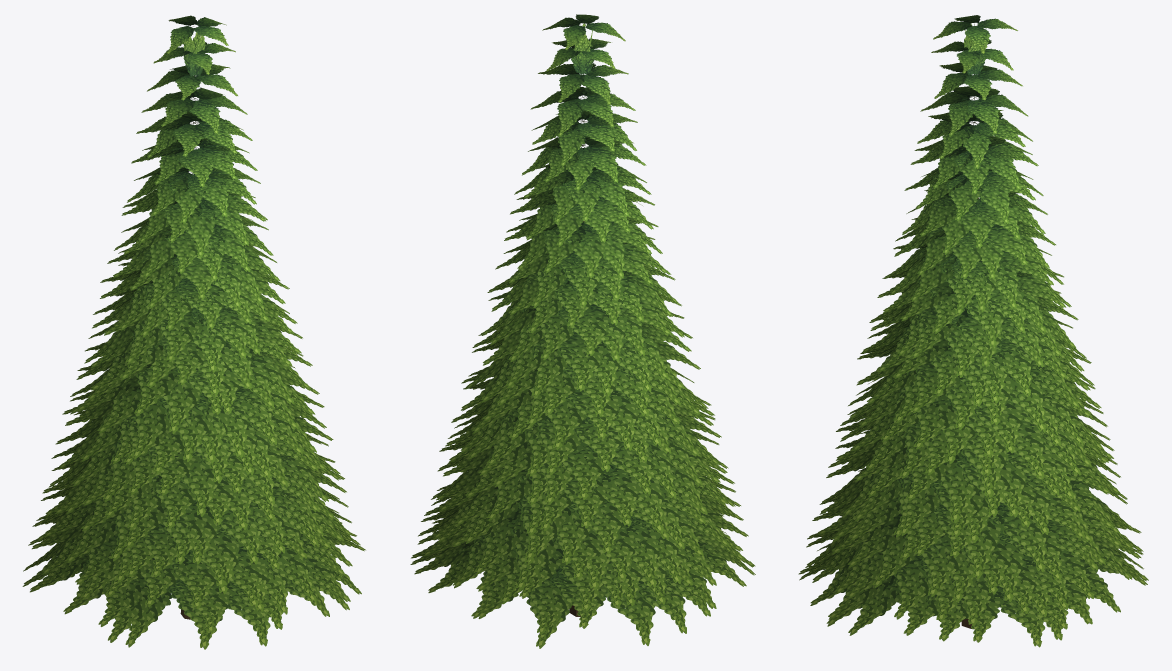
The model's file is fir3_b.glb.
3 views of the same model, side by side, from view 1: azimuth 30°, elevation 25°; view 2: azimuth 150°, elevation 25°; view 3: azimuth 270°, elevation 25° (orthographic).
Visible parts, largest first — view 1: fir3_b; view 2: fir3_b; view 3: fir3_b.
Part boxes in pixels (left/top/right/bottom): fir3_b: left=22, top=15, right=365, bottom=649; fir3_b: left=410, top=14, right=755, bottom=648; fir3_b: left=798, top=15, right=1148, bottom=647.
Bounding box in the file's own units: 4.37 × 7.87 × 4.37.
Materials: 2 (2 with a texture image).
